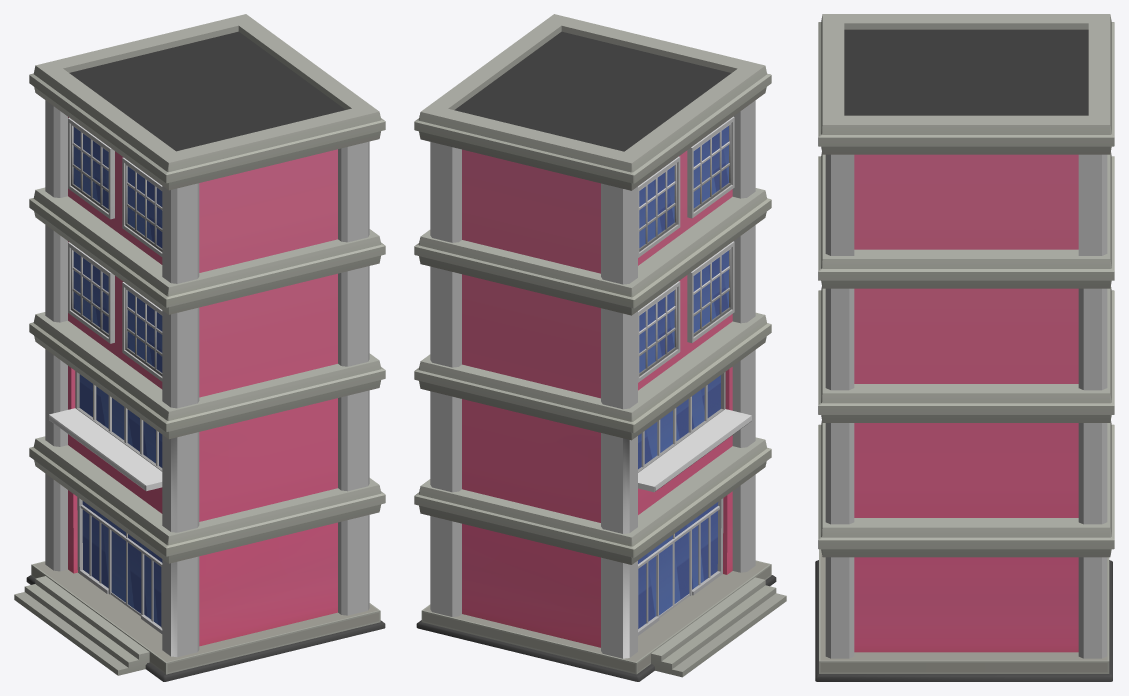
The model's file is Building_9_1_P.fbx.
3 views of the same model, side by side, from view 1: azimuth 30°, elevation 25°; view 2: azimuth 150°, elevation 25°; view 3: azimuth 270°, elevation 25° (orthographic). The views are drawn at different scales.
Visible parts, largest first — view 1: Building_9_1_P; view 2: Building_9_1_P; view 3: Building_9_1_P.
Boxes of the visible parts, x1,y1,x2,y2 form: Building_9_1_P: (14,14,385,681); Building_9_1_P: (414,14,786,681); Building_9_1_P: (815,14,1114,681).
Size of the model in its own units: 947 by 1855 by 906.
